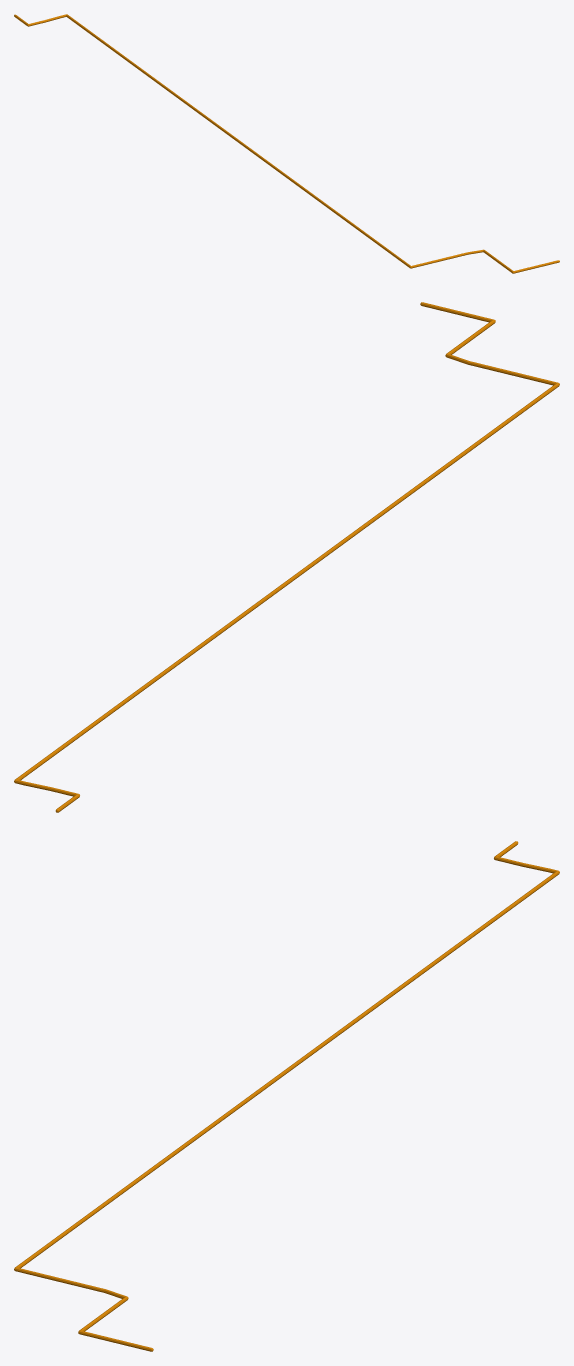
3 views of the same model, one above another, from view 1: azimuth 30°, elevation 25°; view 2: azimuth 150°, elevation 25°; view 3: azimuth 330°, elevation 25° (orthographic). The views are drawn at different scales.
Bounding box in the file's own units: 1394 × 20 × 5932.
